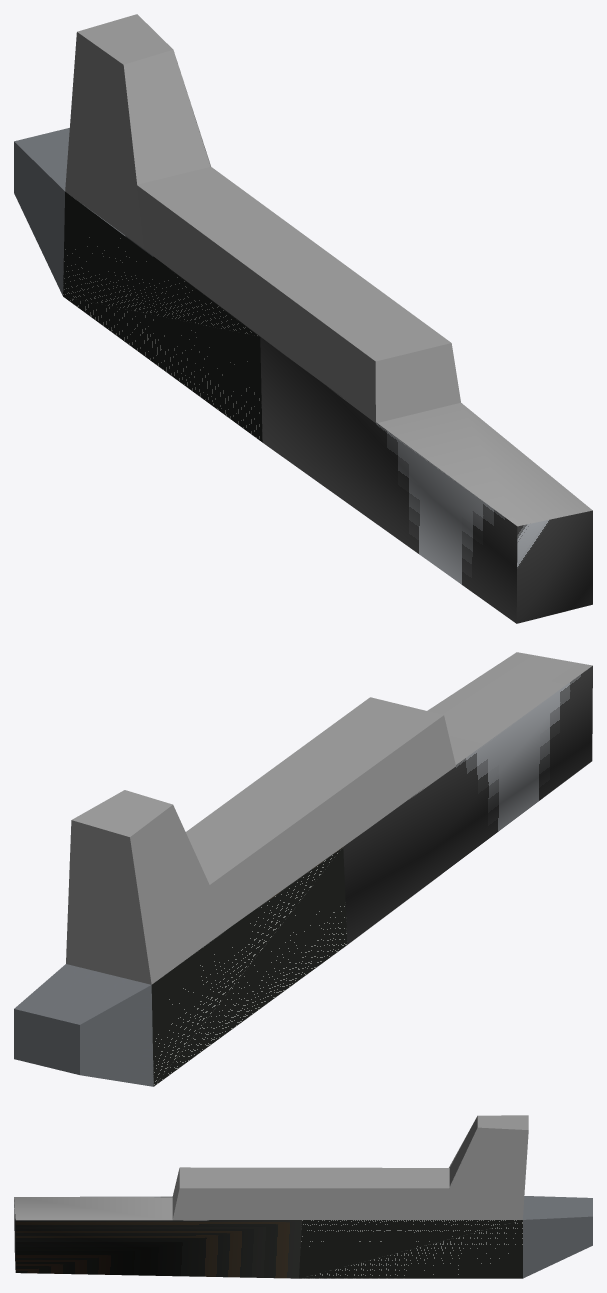
The model's file is pShot.obj.
The picture shows the model from 3 angles, top to bottom: view 1: azimuth 30°, elevation 25°; view 2: azimuth 150°, elevation 25°; view 3: azimuth 270°, elevation 25°; orthographic projection. The views are drawn at different scales.
Parts seen in each view (by area): view 1: SHOTGUN_pistol_q2_SS_v1_0000_submodel00_mesh0000.003; view 2: SHOTGUN_pistol_q2_SS_v1_0000_submodel00_mesh0000.003; view 3: SHOTGUN_pistol_q2_SS_v1_0000_submodel00_mesh0000.003.
Boxes of the visible parts, box(x1,y1,x2,y2) form: SHOTGUN_pistol_q2_SS_v1_0000_submodel00_mesh0000.003: box(14, 14, 592, 623); SHOTGUN_pistol_q2_SS_v1_0000_submodel00_mesh0000.003: box(14, 652, 592, 1086); SHOTGUN_pistol_q2_SS_v1_0000_submodel00_mesh0000.003: box(14, 1115, 592, 1278).
Size of the model in its own units: 0.6539 by 1.79 by 6.46.
